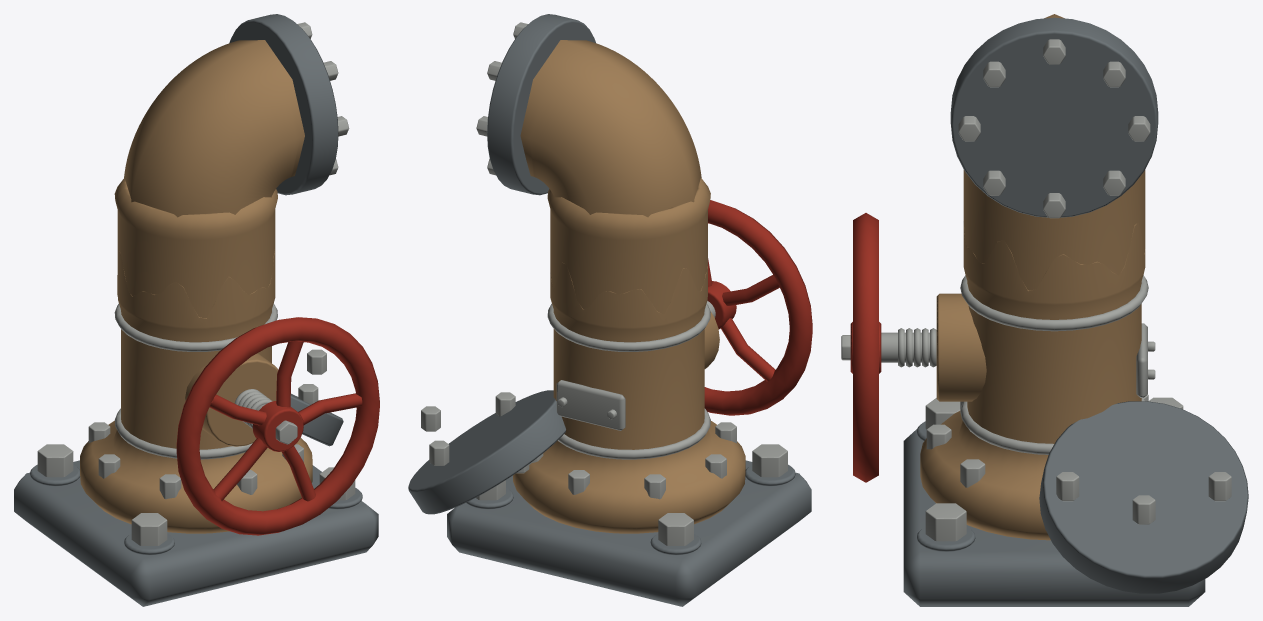
The model's file is foundry-valve.glb.
3 renders of one model, left to right at view 1: azimuth 30°, elevation 25°; view 2: azimuth 150°, elevation 25°; view 3: azimuth 270°, elevation 25°, orthographic. The views are drawn at different scales.
Visible parts, largest first — view 1: ValveIntact_Foundry_Bronze, ValveStatic_Foundry_Bronze, ValveStatic_Foundry_Iron, ValveStatic_Foundry_EnamelRed, ValveStatic_Foundry_Machined, ValveIntact_Foundry_Iron, ValveBroken_Foundry_Bronze, ValveBroken_Foundry_Iron, ValveBroken_Foundry_Machined, ValveIntact_Foundry_Machined; view 2: ValveIntact_Foundry_Bronze, ValveStatic_Foundry_Bronze, ValveStatic_Foundry_Iron, ValveStatic_Foundry_Machined, ValveStatic_Foundry_EnamelRed, ValveBroken_Foundry_Iron, ValveIntact_Foundry_Iron, ValveBroken_Foundry_Bronze, ValveBroken_Foundry_Machined, ValveIntact_Foundry_Machined; view 3: ValveStatic_Foundry_Bronze, ValveBroken_Foundry_Iron, ValveIntact_Foundry_Iron, ValveStatic_Foundry_Iron, ValveIntact_Foundry_Bronze, ValveStatic_Foundry_Machined, ValveStatic_Foundry_EnamelRed, ValveBroken_Foundry_Bronze, ValveIntact_Foundry_Machined, ValveBroken_Foundry_Machined.
Boxes of the visible parts, bbox=[...] form: ValveIntact_Foundry_Bronze: bbox=[114, 40, 304, 317]; ValveStatic_Foundry_Bronze: bbox=[80, 296, 312, 533]; ValveStatic_Foundry_Iron: bbox=[14, 460, 378, 606]; ValveStatic_Foundry_EnamelRed: bbox=[176, 317, 379, 535]; ValveStatic_Foundry_Machined: bbox=[37, 303, 355, 545]; ValveIntact_Foundry_Iron: bbox=[229, 14, 338, 195]; ValveBroken_Foundry_Bronze: bbox=[117, 248, 275, 327]; ValveBroken_Foundry_Iron: bbox=[290, 393, 343, 446]; ValveBroken_Foundry_Machined: bbox=[298, 349, 326, 404]; ValveIntact_Foundry_Machined: bbox=[297, 22, 349, 175]; ValveIntact_Foundry_Bronze: bbox=[520, 40, 710, 314]; ValveStatic_Foundry_Bronze: bbox=[513, 297, 745, 533]; ValveStatic_Foundry_Iron: bbox=[447, 460, 811, 606]; ValveStatic_Foundry_Machined: bbox=[476, 301, 787, 545]; ValveStatic_Foundry_EnamelRed: bbox=[704, 200, 812, 415]; ValveBroken_Foundry_Iron: bbox=[408, 390, 565, 514]; ValveIntact_Foundry_Iron: bbox=[487, 14, 595, 195]; ValveBroken_Foundry_Bronze: bbox=[550, 262, 707, 327]; ValveBroken_Foundry_Machined: bbox=[421, 392, 529, 473]; ValveIntact_Foundry_Machined: bbox=[476, 22, 528, 175]; ValveStatic_Foundry_Bronze: bbox=[920, 267, 1145, 540]; ValveBroken_Foundry_Iron: bbox=[1039, 401, 1248, 593]; ValveIntact_Foundry_Iron: bbox=[950, 17, 1158, 217]; ValveStatic_Foundry_Iron: bbox=[903, 421, 1205, 606]; ValveIntact_Foundry_Bronze: bbox=[963, 14, 1145, 290]; ValveStatic_Foundry_Machined: bbox=[841, 275, 1183, 541]; ValveStatic_Foundry_EnamelRed: bbox=[850, 213, 881, 482]; ValveBroken_Foundry_Bronze: bbox=[963, 221, 1145, 302]; ValveIntact_Foundry_Machined: bbox=[958, 39, 1150, 218]; ValveBroken_Foundry_Machined: bbox=[1056, 472, 1231, 524].
Bounding box in the file's own units: 0.8303 × 1.33 × 0.8646.
